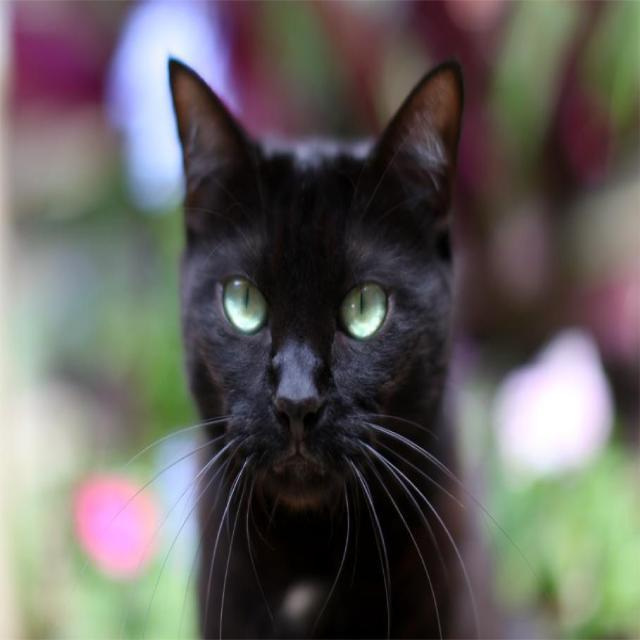cat: (168, 57, 492, 640)
